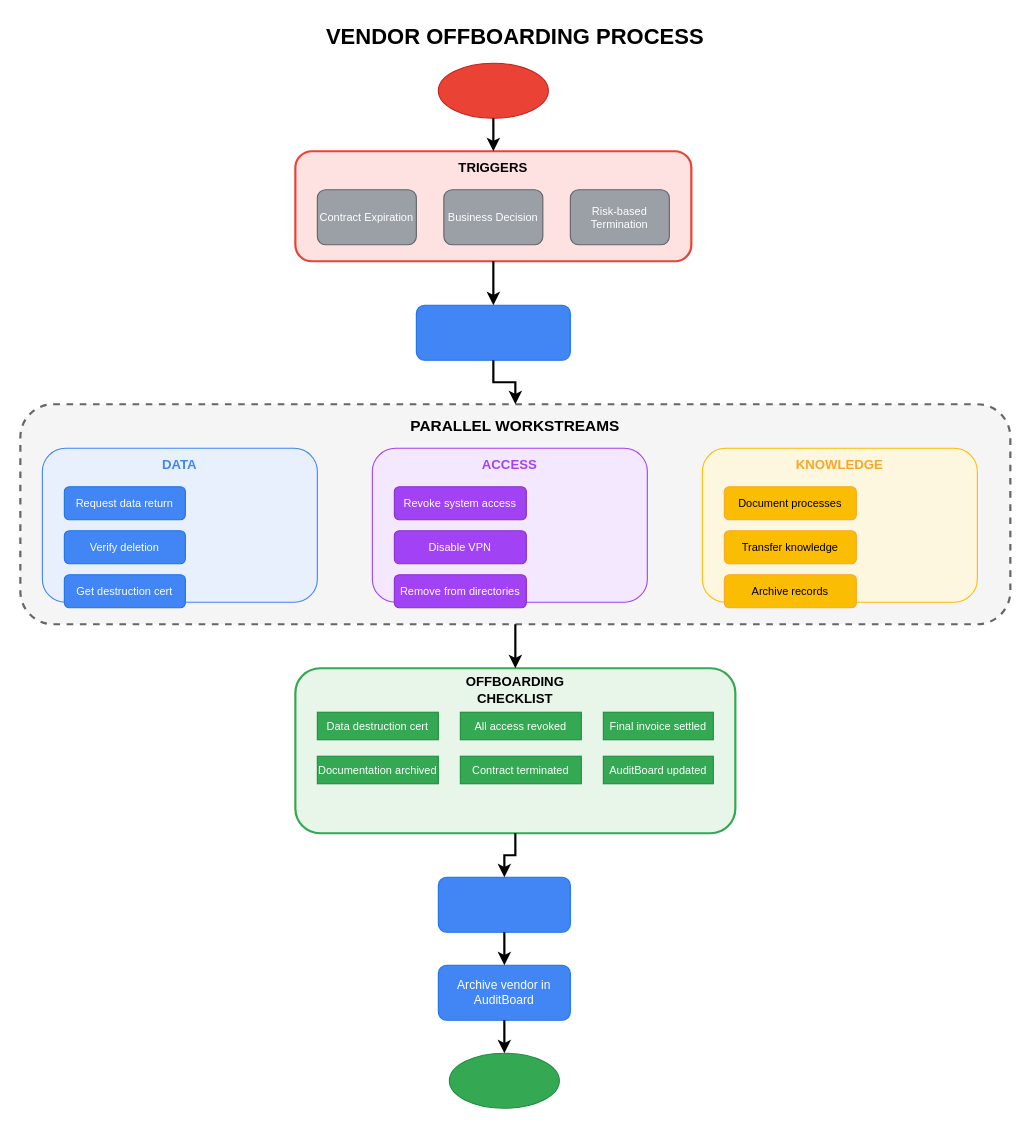
Image size: 1030x1128. Some labels were removed from this diagram. The shapes that lost their labels are listed below. From the top down, each one's box as (x1, y1, x2, y2) in pixels, then its label:
(437, 62, 548, 118): Offboarding Triggered
(415, 304, 570, 360): Notify vendor per contract terms
(437, 876, 570, 932): Final review and sign-off
(448, 1052, 559, 1108): Complete
